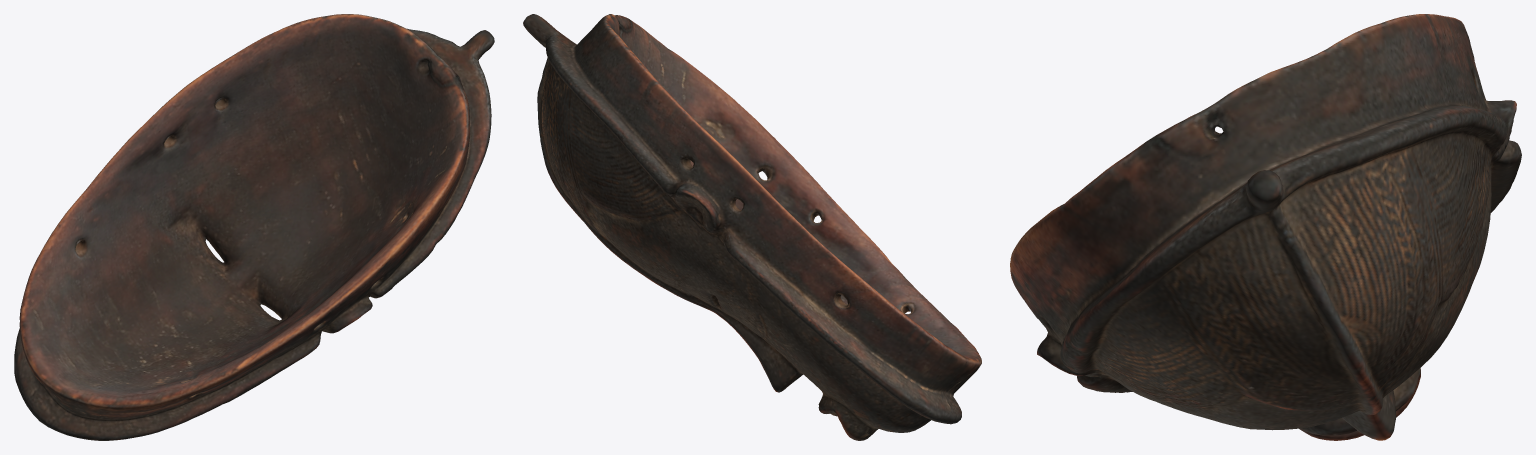
File: 20220322_WestAfricanMask.glb
3 renders of one model, left to right at view 1: azimuth 30°, elevation 25°; view 2: azimuth 150°, elevation 25°; view 3: azimuth 270°, elevation 25°, orthographic. The views are drawn at different scales.
Parts seen in each view (by area): view 1: ZBrush_defualt_group; view 2: ZBrush_defualt_group; view 3: ZBrush_defualt_group.
Boxes of the visible parts, <box> form: ZBrush_defualt_group: <box>14,14,494,440</box>; ZBrush_defualt_group: <box>523,14,981,440</box>; ZBrush_defualt_group: <box>1010,14,1521,440</box>.
Bounding box in the file's own units: 4.09 × 2.96 × 2.23.
1 material, 1 textured.
